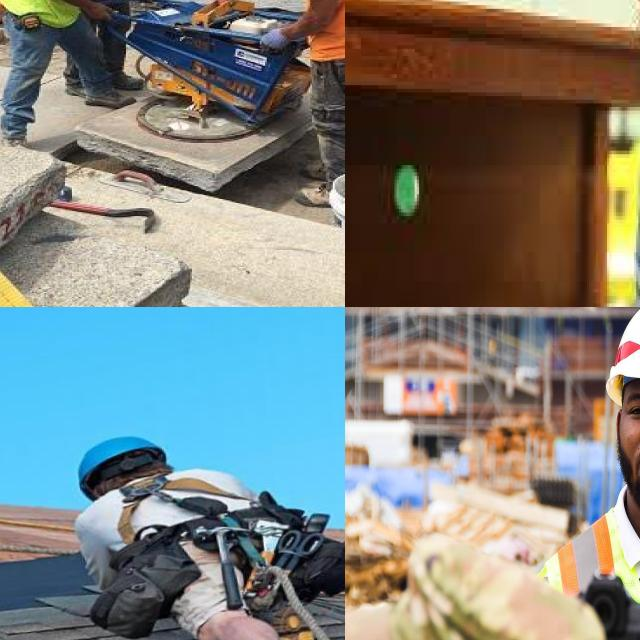Harness: (111, 475, 265, 616)
No_Glasses: (623, 386, 640, 435)
hand_glove: (242, 19, 300, 62)
hand_noglove: (86, 2, 133, 32), (138, 0, 164, 15)
person: (0, 0, 155, 147), (275, 0, 345, 208)
vest: (0, 0, 108, 24)
